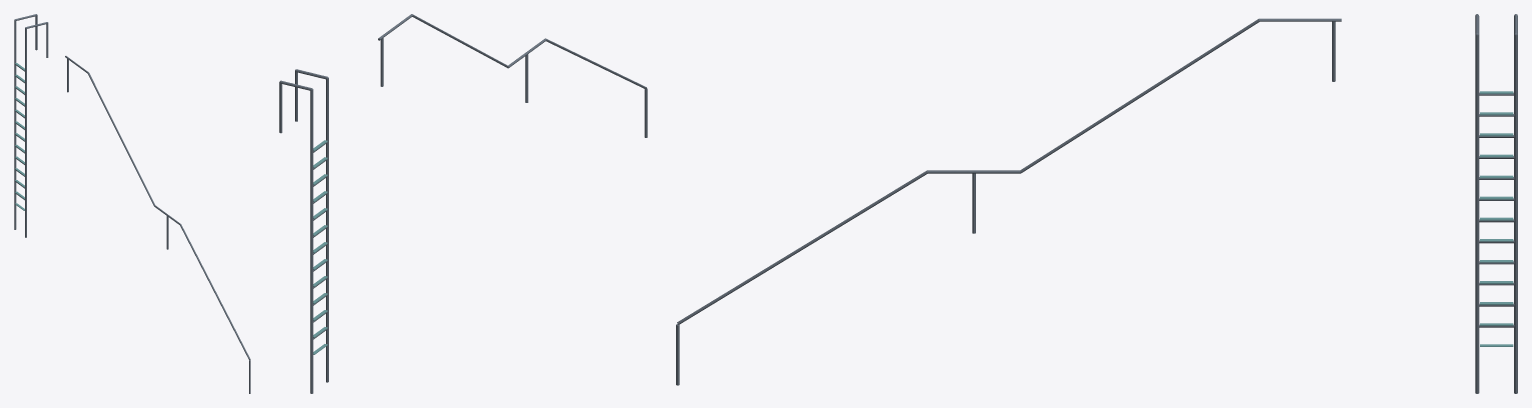
File: tt_pool_access_dive_b.glb
3 views of the same model, side by side, from view 1: azimuth 30°, elevation 25°; view 2: azimuth 150°, elevation 25°; view 3: azimuth 270°, elevation 25° (orthographic). The views are drawn at different scales.
Visible parts, largest first — view 1: Ladder_Stringers, Pool_Handrail, Ladder_Tread_Rubber, Pool_RailPosts; view 2: Ladder_Stringers, Pool_Handrail, Ladder_Tread_Rubber, Pool_RailPosts; view 3: Ladder_Stringers, Pool_Handrail, Ladder_Tread_Rubber, Ladder_Rungs, Pool_RailPosts.
Boxes of the visible parts, x1,y1,x2,y2 form: Ladder_Stringers: (14,14,48,237); Pool_Handrail: (65,56,250,359); Ladder_Tread_Rubber: (15,63,24,210); Pool_RailPosts: (67,59,250,393); Ladder_Stringers: (279,69,328,393); Pool_Handrail: (378,14,647,89); Ladder_Tread_Rubber: (313,140,327,354); Pool_RailPosts: (380,38,647,137); Ladder_Stringers: (1475,14,1517,393); Pool_Handrail: (677,18,1341,324); Ladder_Tread_Rubber: (1480,91,1513,346); Ladder_Rungs: (1479,92,1514,327); Pool_RailPosts: (676,21,1335,385).
Size of what is drawn, in the model's own units: 0.625 by 5.39 by 10.86.
2 materials, 1 textured.
